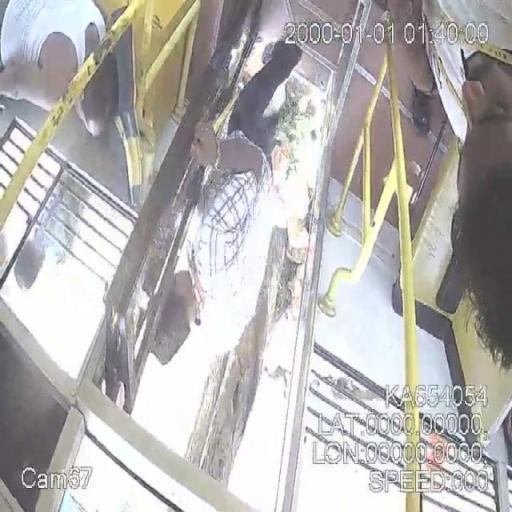persona: (151, 36, 301, 378), (420, 1, 512, 373), (2, 1, 152, 206)
